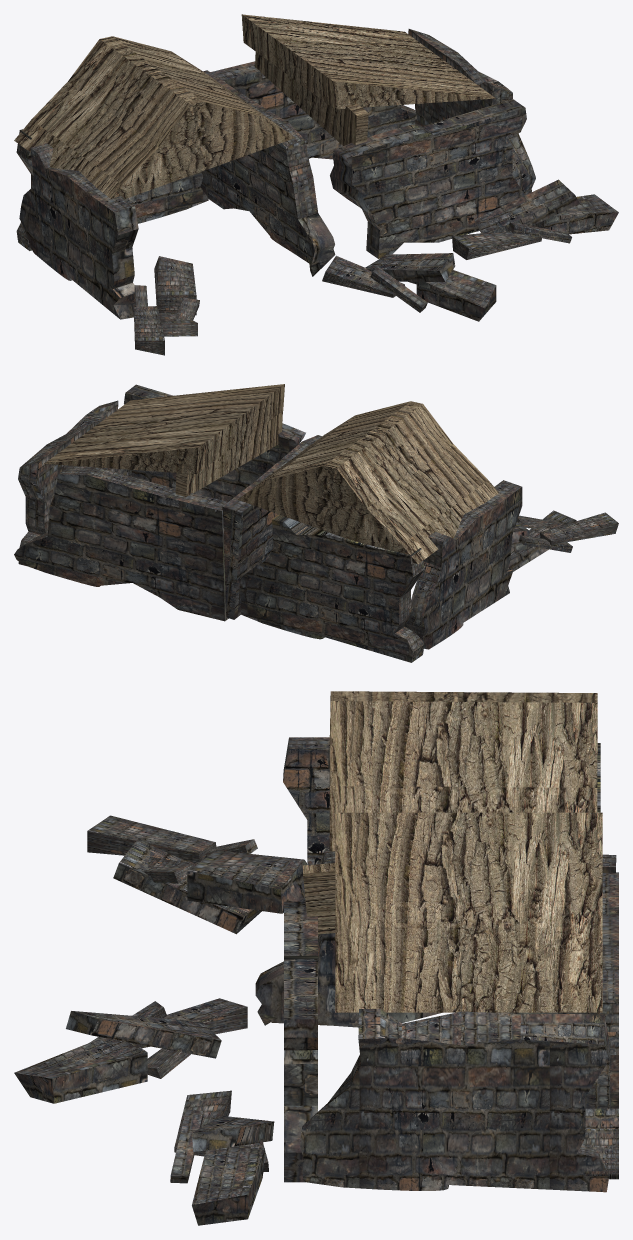
Rendered from HouseTwoRooms.FBX.
3 views of the same model, one above another, from view 1: azimuth 30°, elevation 25°; view 2: azimuth 150°, elevation 25°; view 3: azimuth 270°, elevation 25° (orthographic). The views are drawn at different scales.
Parts seen in each view (by area): view 1: Line007, Line004, Line008, Line006, Line001, Line002, Line003, Box001, Line005, Box012, Box002, Box003 (+8 smaller); view 2: Line007, Line002, Line005, Line008, Line006, Line001, Line003, Line004, Box001, Box009, Box007, Box010; view 3: Line008, Line003, Line007, Line004, Line002, Box011, Box002, Box016, Line001, Line006, Box003, Box007 (+8 smaller).
Part boxes in pixels (box(x1,y1,x2,y2)): Line007: box(14, 36, 295, 198); Line004: box(330, 99, 526, 258); Line008: box(241, 14, 495, 109); Line006: box(19, 143, 138, 319); Line001: box(200, 70, 335, 276); Line002: box(210, 61, 417, 159); Line003: box(408, 29, 535, 195); Box001: box(255, 52, 368, 145); Line005: box(16, 129, 208, 250); Box012: box(474, 179, 579, 233); Box002: box(416, 270, 496, 321); Box003: box(365, 253, 455, 281); Line007: box(238, 401, 498, 564); Line002: box(14, 466, 228, 621); Line005: box(239, 514, 424, 662); Line008: box(44, 384, 284, 474); Line006: box(404, 480, 522, 649); Line001: box(222, 435, 321, 619); Line003: box(18, 400, 131, 565); Line004: box(124, 384, 305, 501); Box001: box(175, 411, 282, 496); Box009: box(540, 512, 618, 544); Box007: box(508, 510, 576, 571); Box010: box(518, 535, 572, 552); Line008: box(335, 812, 602, 1012); Line003: box(299, 1009, 609, 1192); Line007: box(329, 691, 597, 851); Line004: box(284, 901, 322, 1182); Line002: box(584, 872, 618, 1179); Box011: box(187, 850, 307, 913); Box002: box(14, 1037, 147, 1103); Box016: box(192, 1145, 264, 1225); Line001: box(255, 849, 616, 1027); Line006: box(283, 737, 329, 901); Box003: box(66, 1011, 221, 1058); Box007: box(113, 838, 261, 934).
Bounding box in the file's own units: 278 × 97.29 × 195.
Materials: 2 (2 with a texture image).
